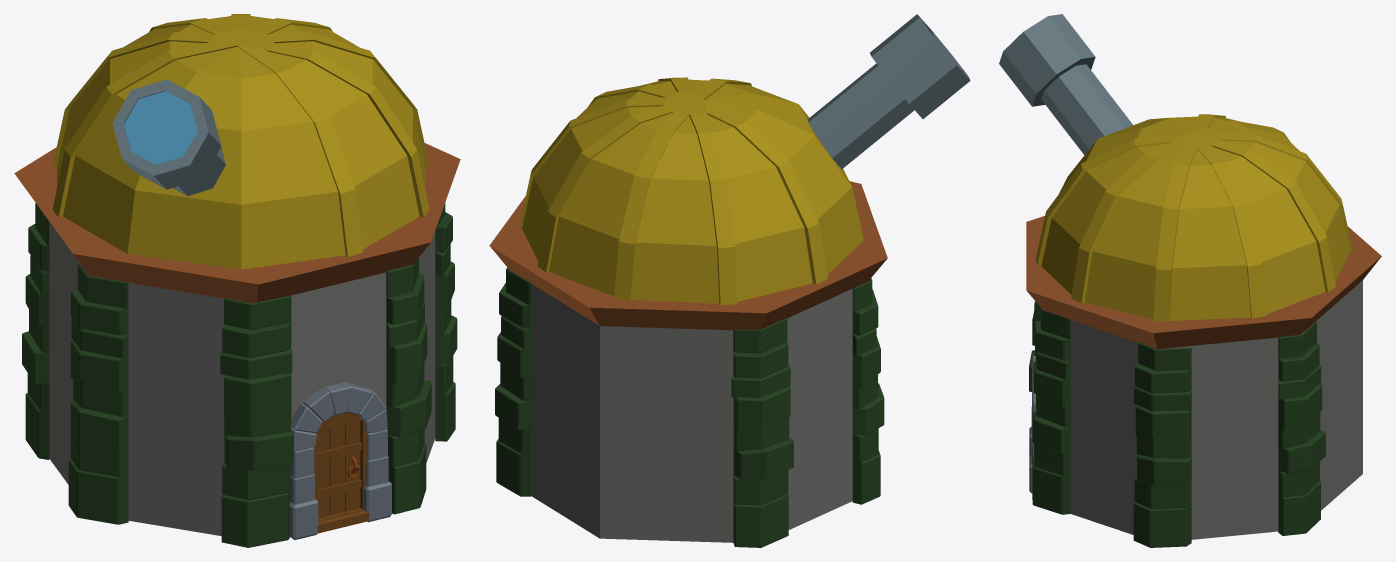
File: observatory.glb
The picture shows the model from 3 angles, left to right: view 1: azimuth 30°, elevation 25°; view 2: azimuth 150°, elevation 25°; view 3: azimuth 270°, elevation 25°; orthographic projection. The views are drawn at different scales.
Visible parts, largest first — view 1: Wizard_Shop; view 2: Wizard_Shop; view 3: Wizard_Shop.
Boxes of the visible parts, x1,y1,x2,y2 form: Wizard_Shop: (14, 14, 460, 547); Wizard_Shop: (489, 14, 970, 547); Wizard_Shop: (999, 14, 1381, 547).
Bounding box in the file's own units: 2.15 × 2.42 × 2.14.
